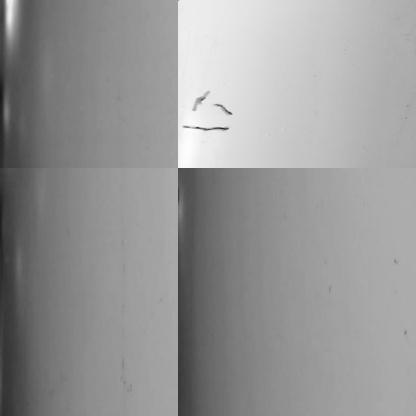fengxi: (180, 120, 235, 134), (190, 89, 210, 111), (216, 100, 233, 116)
